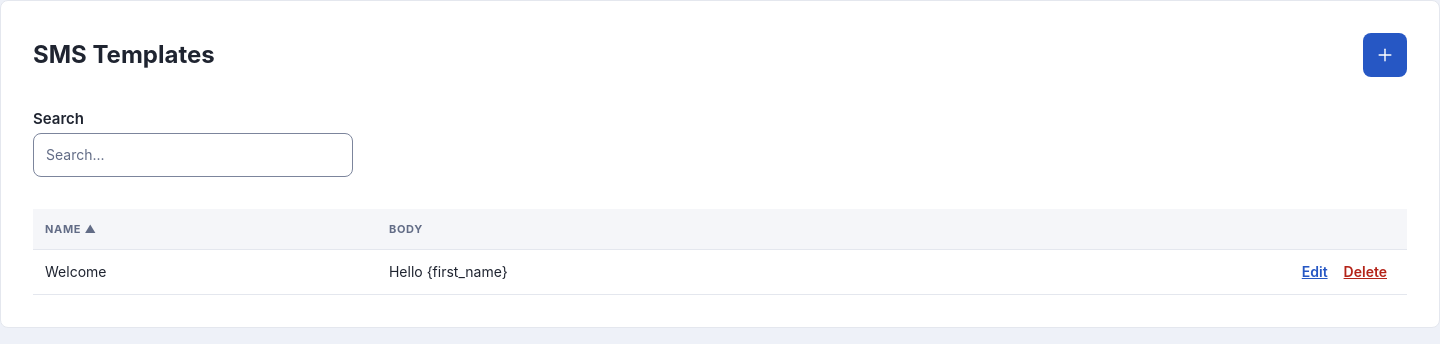
TemplatesScreen › says there are no results when the search matches nothing
Type "nothing" into the search field labelled "Search".
click(193, 155); type("nothing")  # box [33,133,353,177]
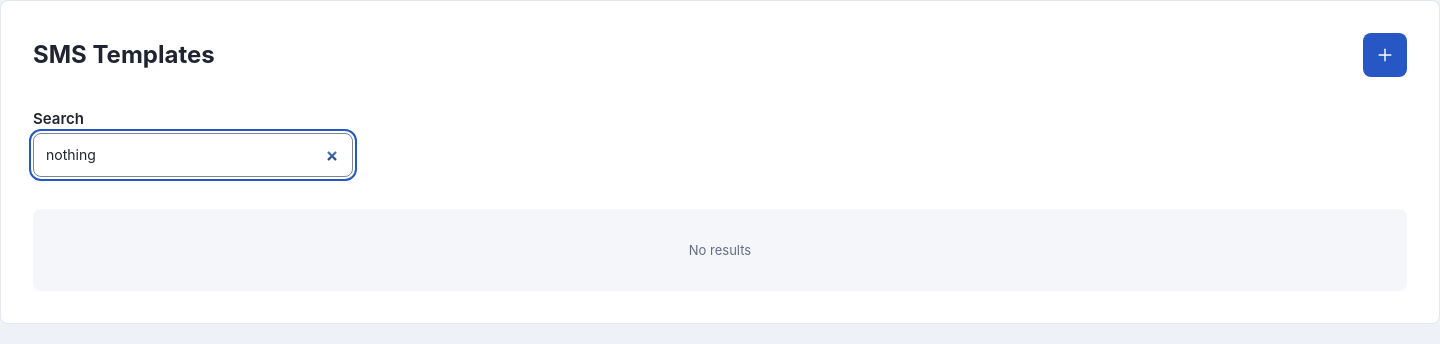
Check: the text "No results" is shown, box [33,209,1407,291]
